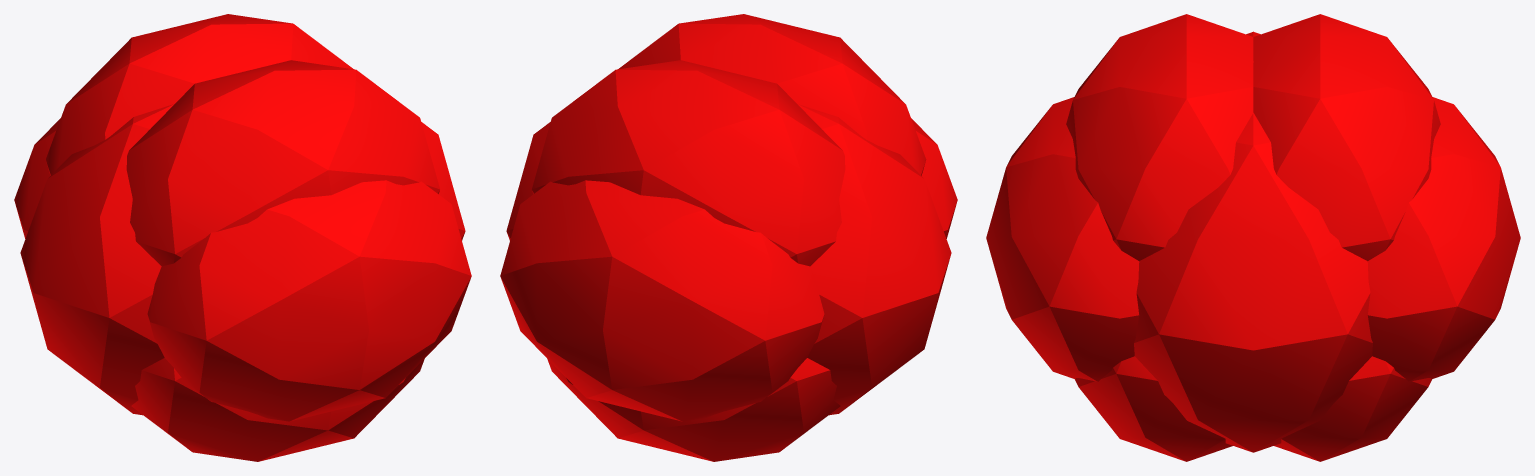
The model's file is bulletExplosion.glb.
3 renders of one model, left to right at view 1: azimuth 30°, elevation 25°; view 2: azimuth 150°, elevation 25°; view 3: azimuth 270°, elevation 25°, orthographic. The views are drawn at different scales.
Visible parts, largest first — view 1: mergedBlocks(Clone); view 2: mergedBlocks(Clone); view 3: mergedBlocks(Clone).
Part boxes in pixels (x1,y1,x2,y2): mergedBlocks(Clone): (14,14,471,461); mergedBlocks(Clone): (500,14,957,461); mergedBlocks(Clone): (986,14,1520,461).
Bounding box in the file's own units: 1.92 × 1.67 × 2.
